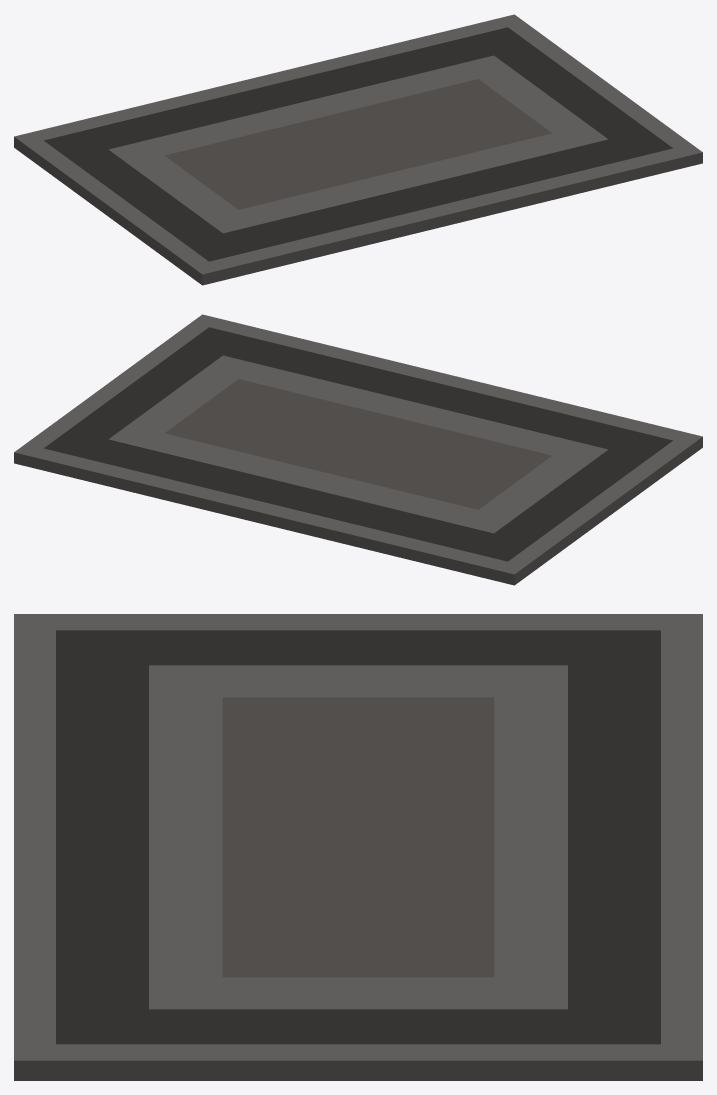
Rendered from Carpet.glb.
The picture shows the model from 3 angles, top to bottom: view 1: azimuth 30°, elevation 25°; view 2: azimuth 150°, elevation 25°; view 3: azimuth 270°, elevation 25°; orthographic projection. The views are drawn at different scales.
Parts seen in each view (by area): view 1: SO_Rug_01; view 2: SO_Rug_01; view 3: SO_Rug_01.
Part boxes in pixels (x1=…): SO_Rug_01: x1=14, y1=14, x2=702, y2=285; SO_Rug_01: x1=14, y1=314, x2=702, y2=585; SO_Rug_01: x1=14, y1=614, x2=702, y2=1080.
Size of the model in its own units: 0.0479 by 0.00101 by 0.0313.
1 material, 1 textured.
